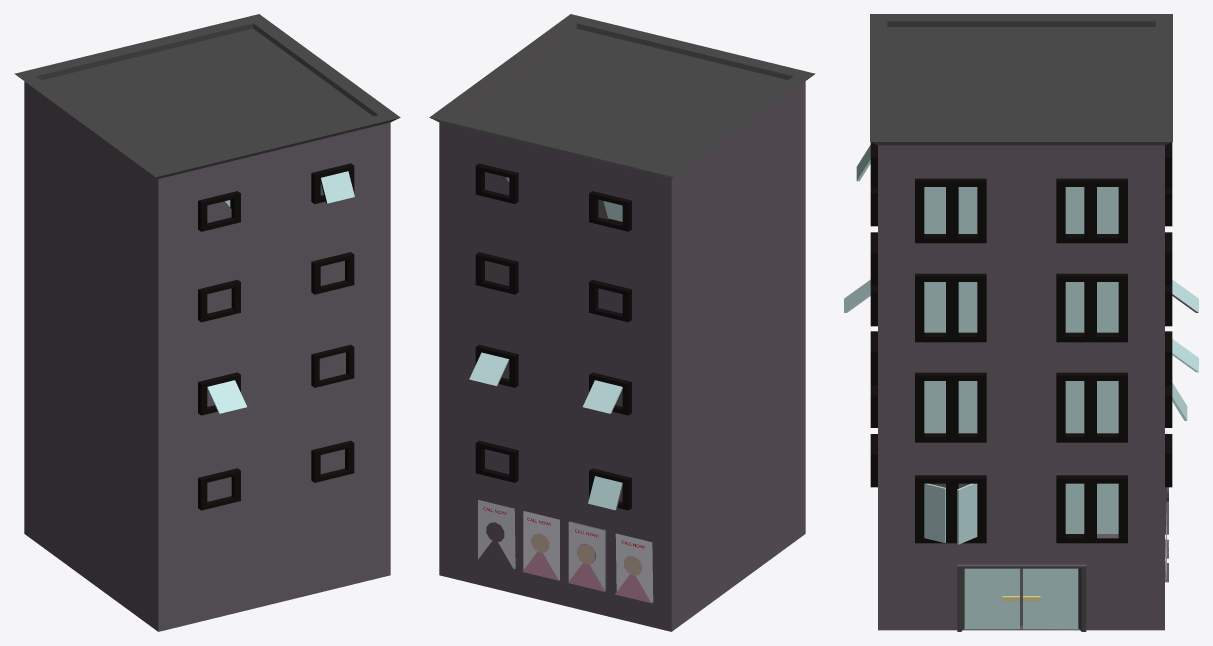
The model's file is Edificio2.fbx.
3 renders of one model, left to right at view 1: azimuth 30°, elevation 25°; view 2: azimuth 150°, elevation 25°; view 3: azimuth 270°, elevation 25°, orthographic. The views are drawn at different scales.
Parts seen in each view (by area): view 1: edificio; view 2: edificio; view 3: edificio.
Part boxes in pixels (<box>): edificio: <box>14,14,400,631</box>; edificio: <box>429,14,815,631</box>; edificio: <box>844,14,1198,631</box>.
Bounding box in the file's own units: 108 × 185 × 121.
